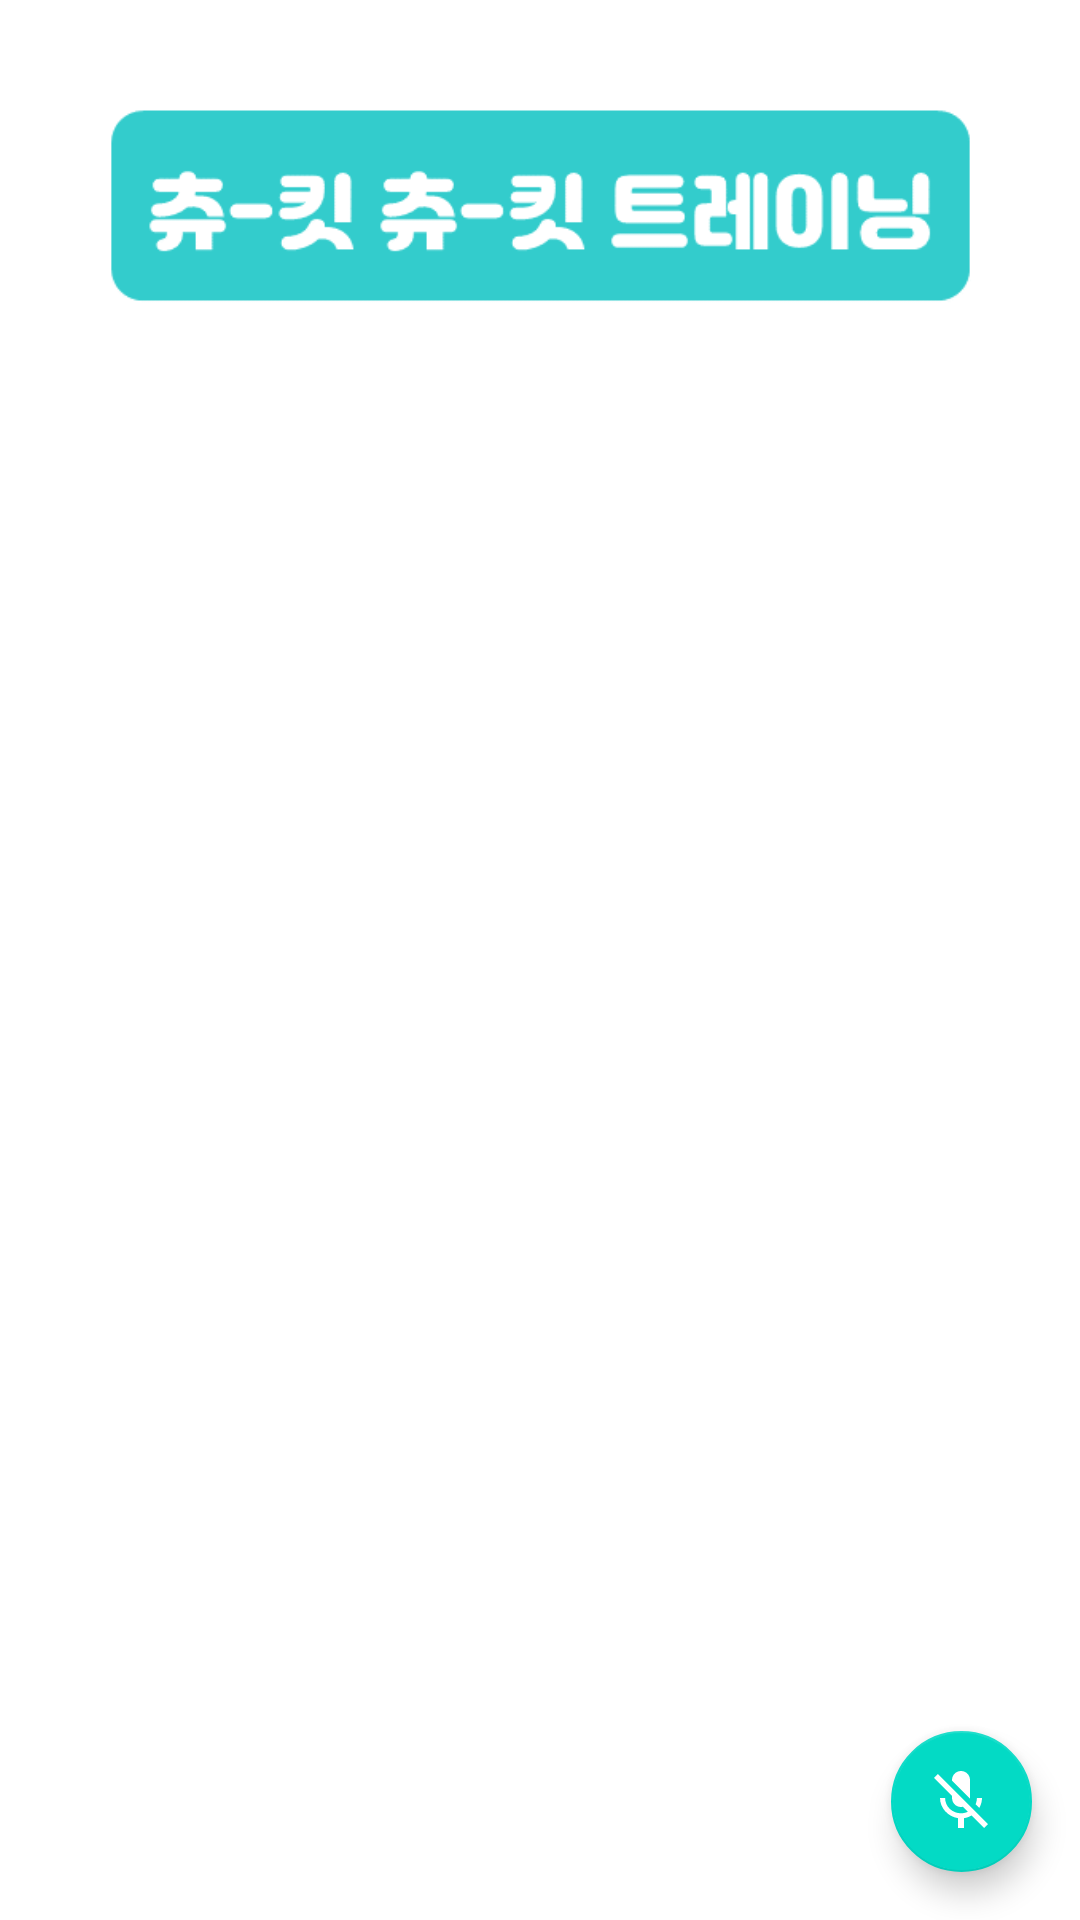

Icons on this 1080*1920 Android screen, each with the point to tap as (x,y):
call mute: (961,1801)
